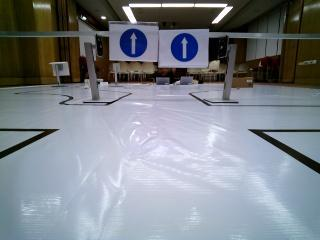straight: (109, 23, 162, 63), (158, 29, 209, 65)
